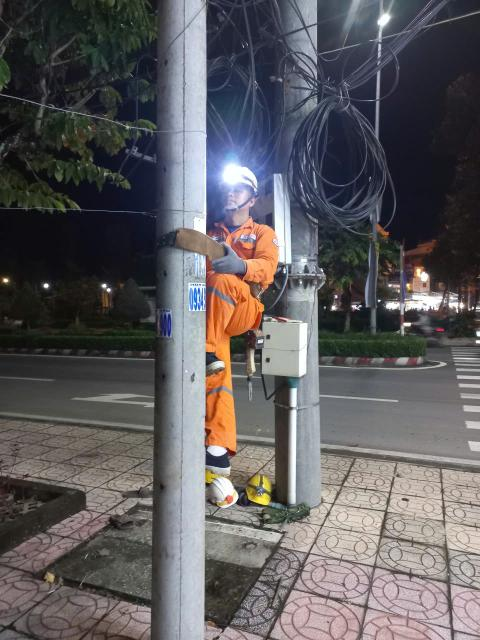gloves: (203, 238, 257, 278)
helmet: (213, 158, 265, 199), (205, 476, 238, 511), (249, 473, 279, 509)
shoes: (195, 441, 240, 482), (186, 347, 233, 383)
